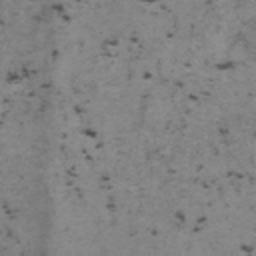Oxide scale of temperature system: (0, 0, 255, 237), (0, 198, 22, 244), (239, 242, 255, 256)
